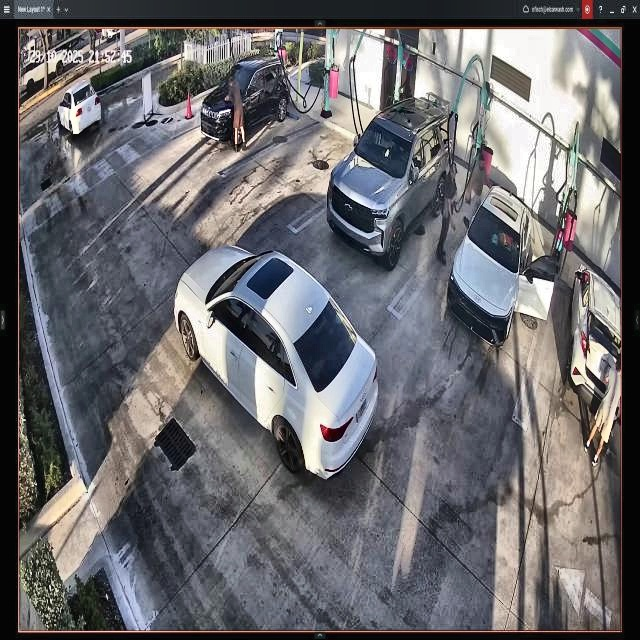Car: (174, 243, 378, 482), (326, 99, 454, 265), (446, 186, 556, 344), (203, 58, 292, 149)
